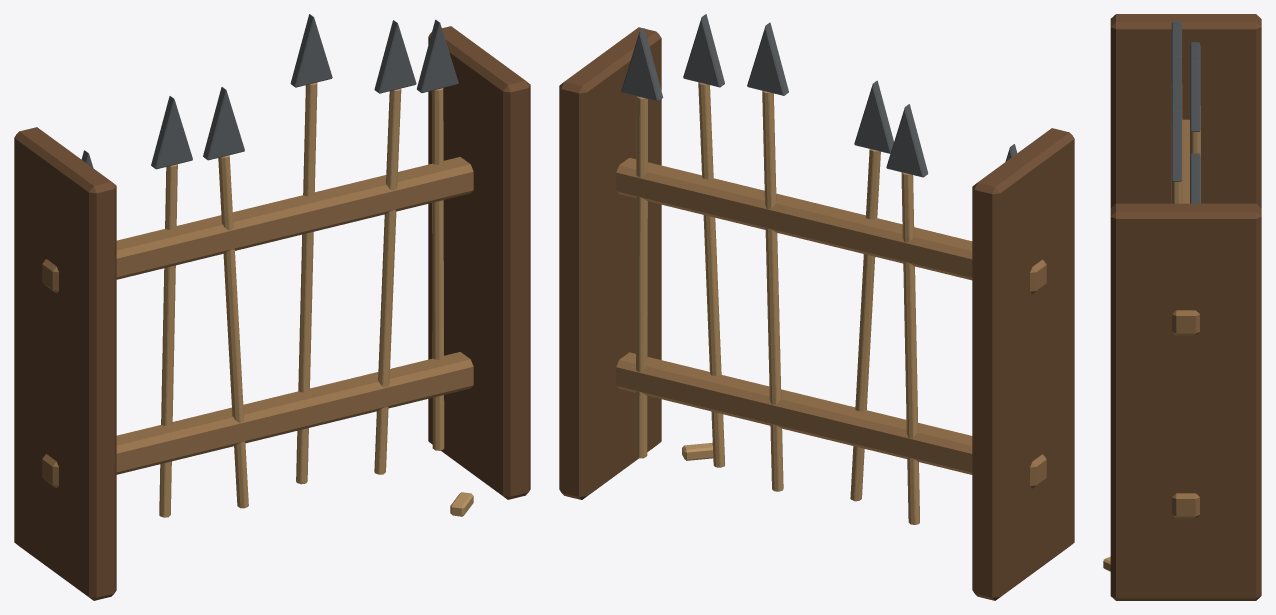
Rendered from runtime.glb.
The picture shows the model from 3 angles, left to right: view 1: azimuth 30°, elevation 25°; view 2: azimuth 150°, elevation 25°; view 3: azimuth 270°, elevation 25°; orthographic projection. The views are drawn at different scales.
Visible parts, largest first — view 1: falkenwacht-weapon-rack-v01_nocol; view 2: falkenwacht-weapon-rack-v01_nocol; view 3: falkenwacht-weapon-rack-v01_nocol.
Part boxes in pixels (<box>): falkenwacht-weapon-rack-v01_nocol: <box>14,14,530,600</box>; falkenwacht-weapon-rack-v01_nocol: <box>559,14,1074,600</box>; falkenwacht-weapon-rack-v01_nocol: <box>1103,14,1261,600</box>.
Bounding box in the file's own units: 2.1 × 2.19 × 0.6808.
